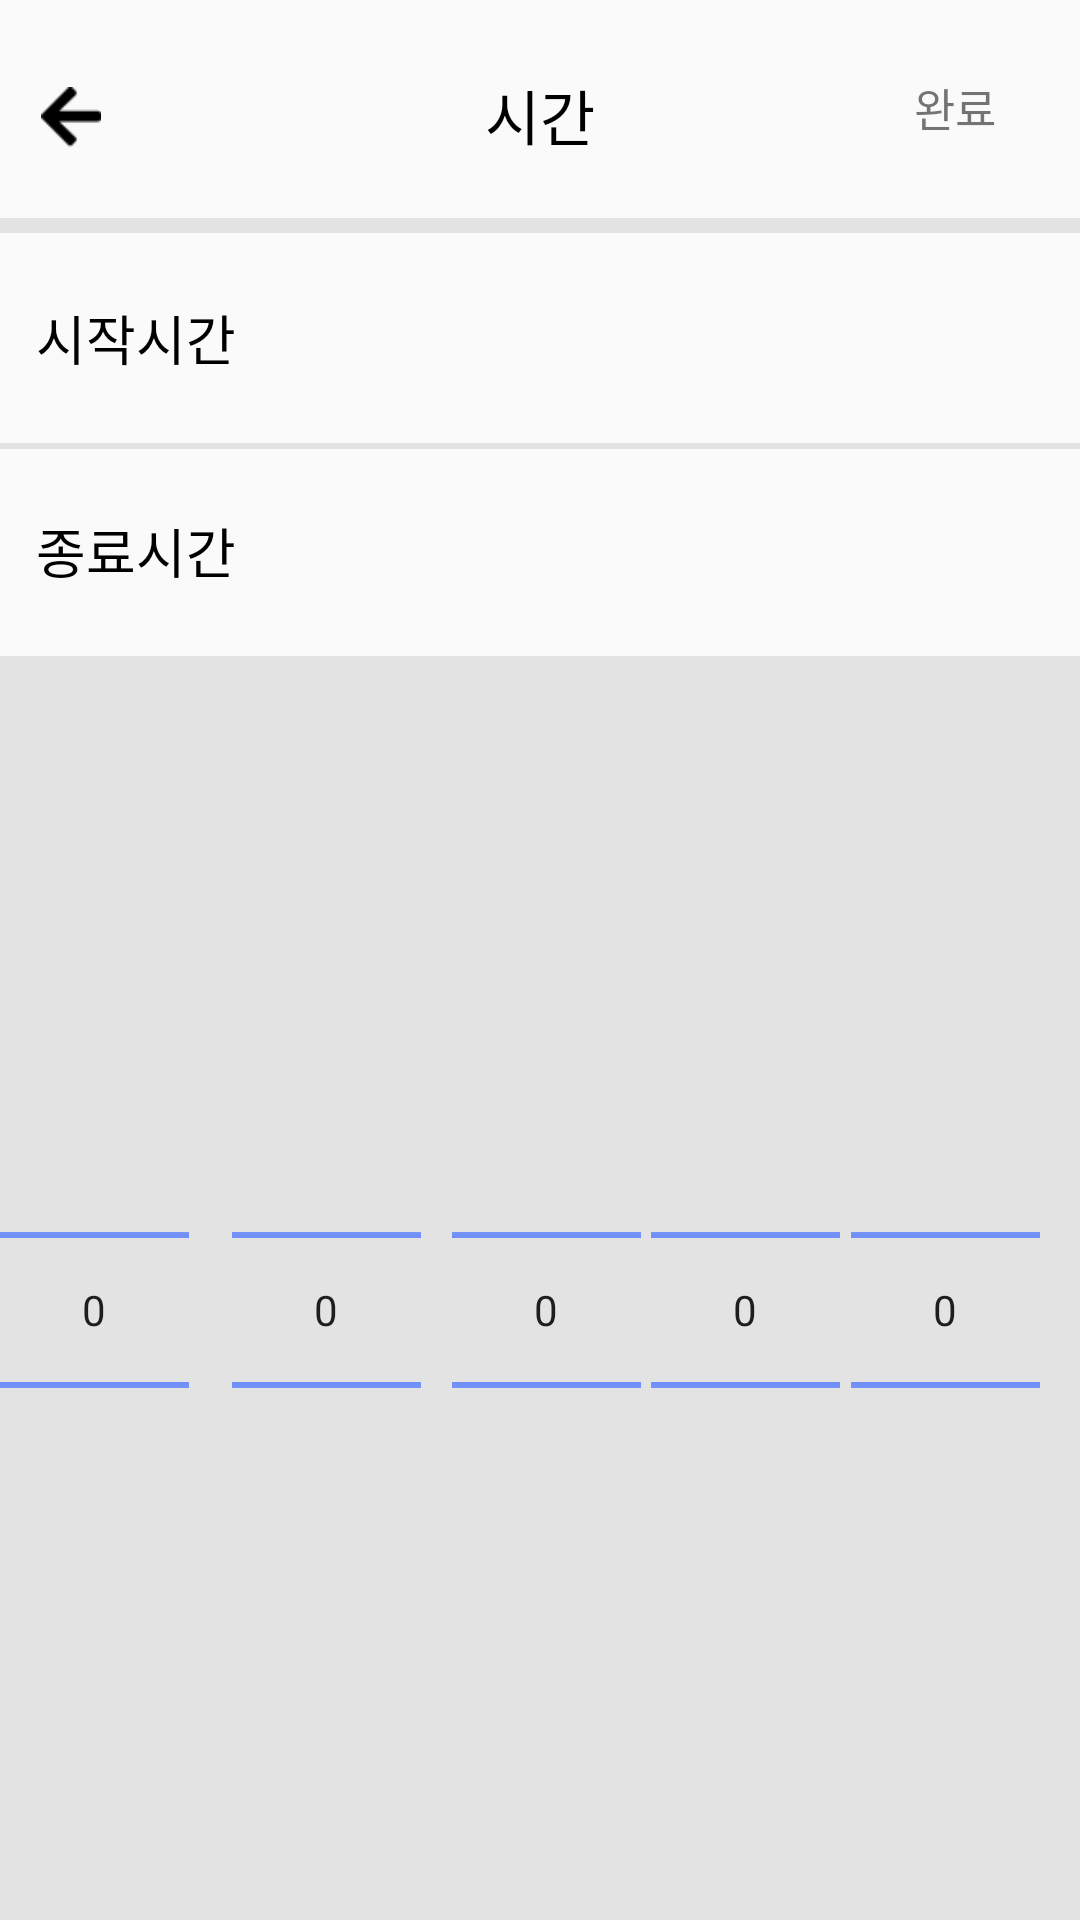

Icons on this 1080w x 1920h Android screen, each with the point to tap as (x,y):
arrow left: (71,117)
